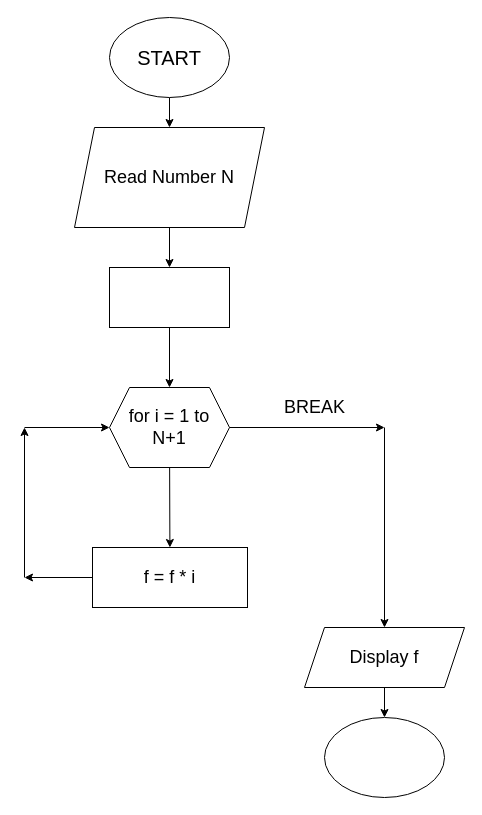
Image size: 482x815. Some labels were removed from this diagram. Here are the shapes that lost their labels. From the top down, the centre of each, then its label:
the point at 169,297: Set f = 1
the point at 384,757: END
